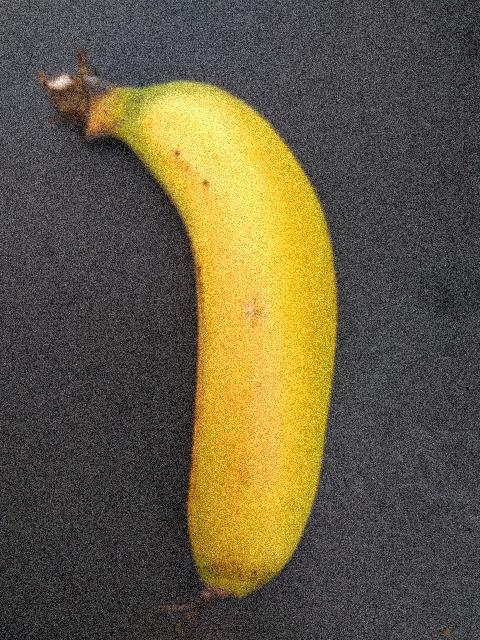freshripe: (122, 71, 382, 618)
